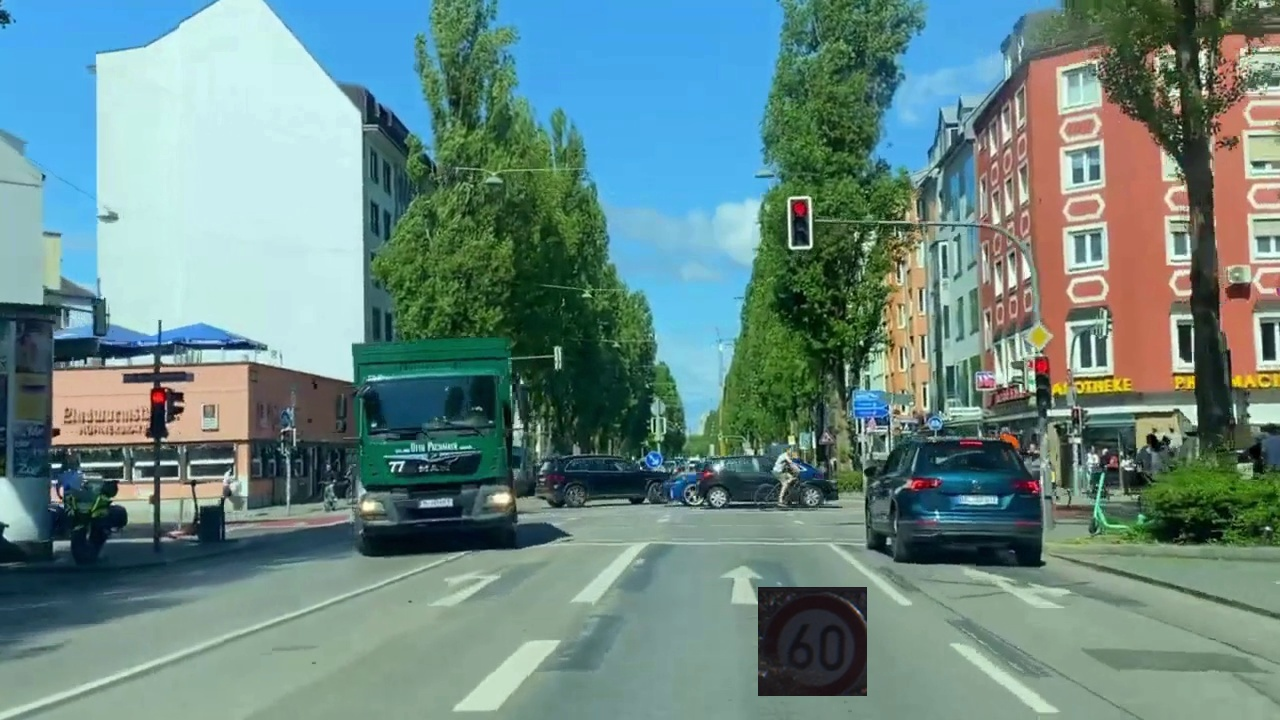Speed 60: (758, 587, 867, 696)
